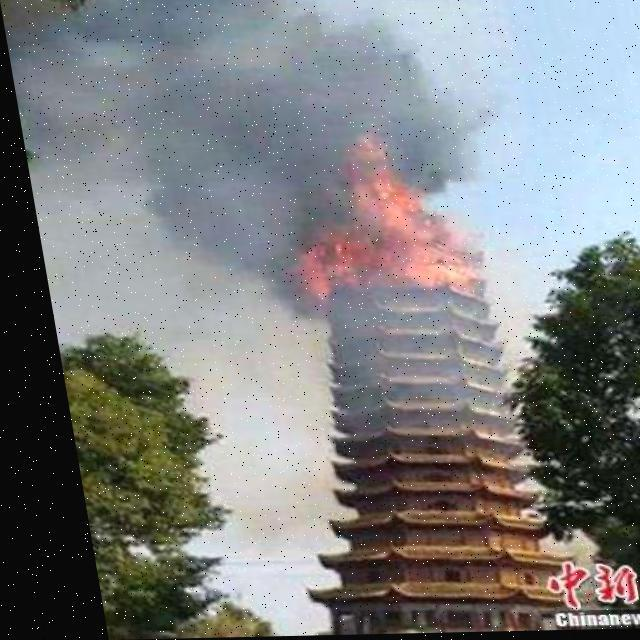Fire: (262, 129, 484, 299)
